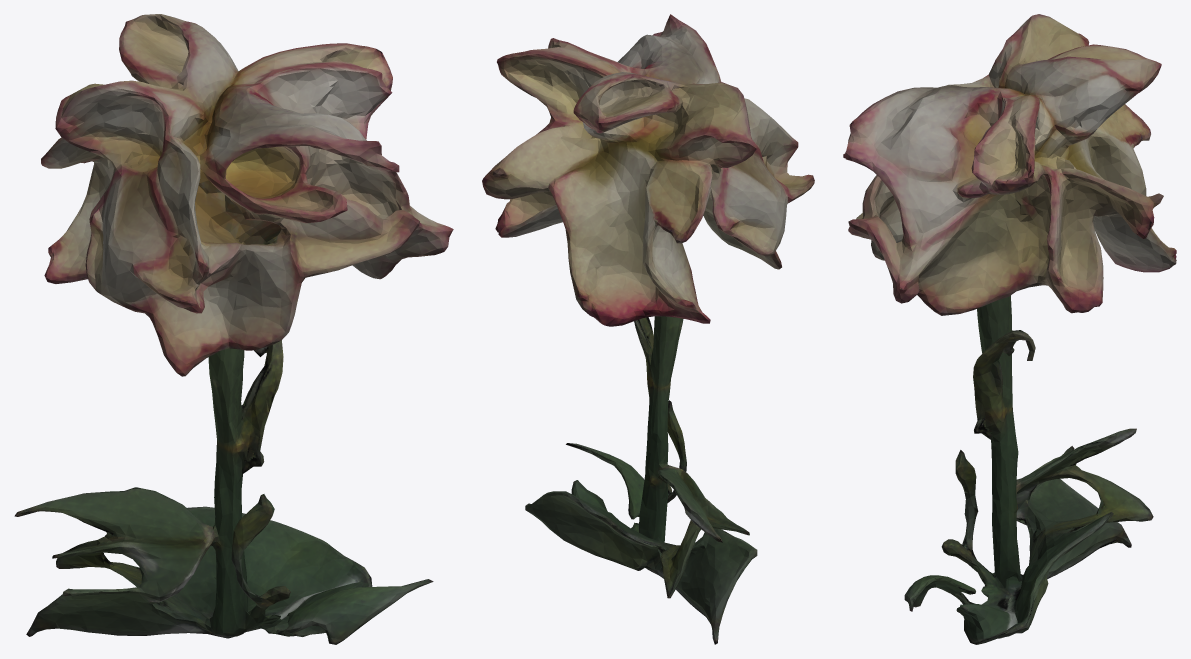
3 renders of one model, left to right at view 1: azimuth 30°, elevation 25°; view 2: azimuth 150°, elevation 25°; view 3: azimuth 270°, elevation 25°, orthographic. The views are drawn at different scales.
Parts seen in each view (by area): view 1: world; view 2: world; view 3: world.
Part boxes in pixels (left/top/right/bottom): world: left=14, top=14, right=453, bottom=644; world: left=482, top=14, right=814, bottom=644; world: left=843, top=14, right=1176, bottom=644.
Size of the model in its own units: 0.5247 by 0.9466 by 0.5203.
1 material, 1 textured.
